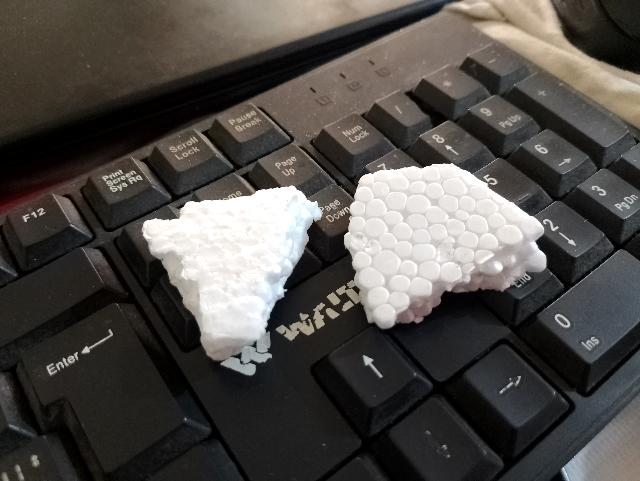cocksheet: (354, 164, 553, 298), (167, 196, 323, 350)
